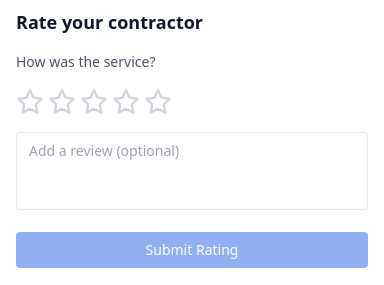
Test: clicking a star enables the submit button
The image size is (384, 285).
What coordinates should you click on to do the following:
click the button named "4 star"
I would click on:
 (126, 102)
Its box is [112,88,140,116].
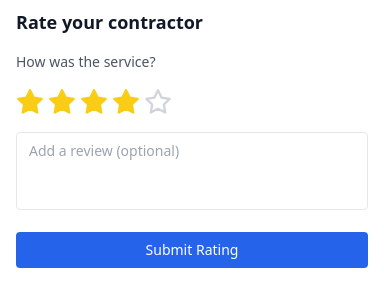
Expected: the button "Submit Rating" is enabled, [16,232,368,268]
